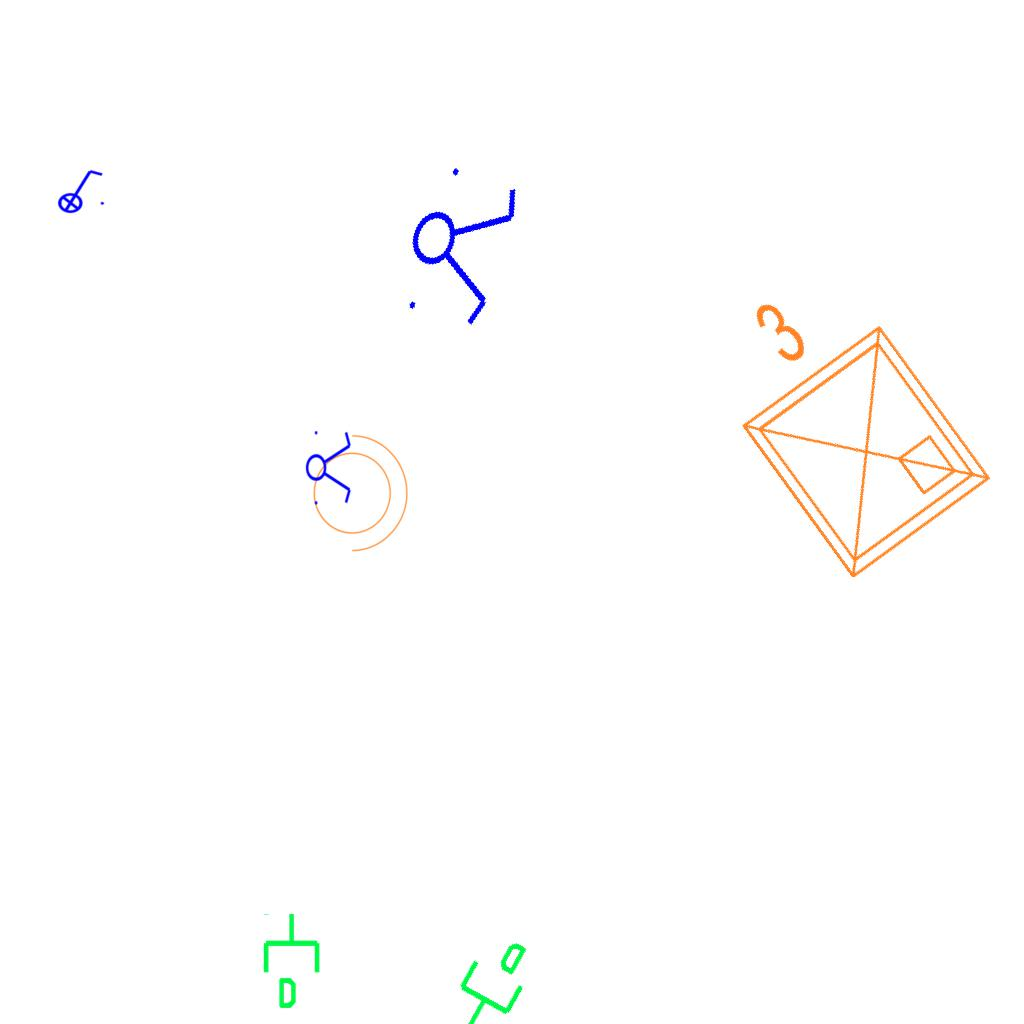Ausschalter_beleuchtet: (51, 166, 107, 214)
Datenanschluss_einfach: (437, 922, 546, 1024), (259, 911, 328, 1011)
Einbaudownlights_LED_Konferenzraeume: (666, 238, 1012, 604)
Scheinwerfer_fuer_Alarmbeleuchtung: (301, 424, 413, 556)
Serienschalter: (387, 150, 531, 340), (305, 425, 353, 509)
